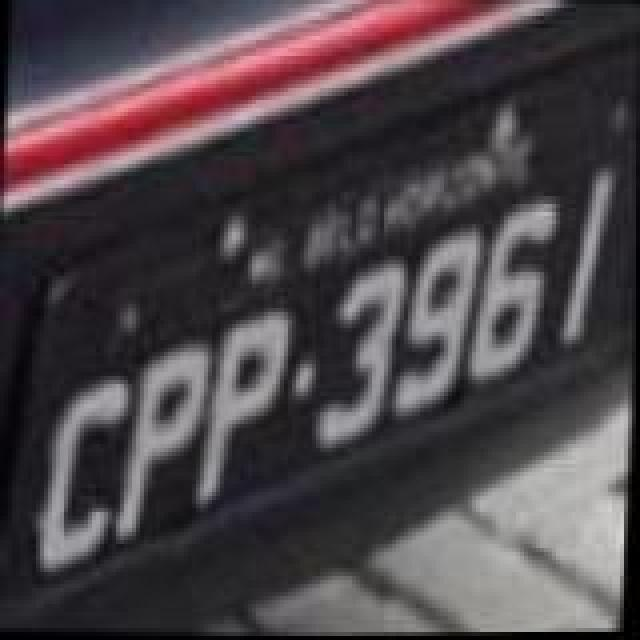1: (558, 162, 622, 346)
3: (314, 256, 414, 456)
6: (462, 198, 562, 390)
9: (386, 226, 486, 422)
C: (34, 378, 134, 578)
P: (108, 338, 212, 550), (190, 308, 294, 516)
